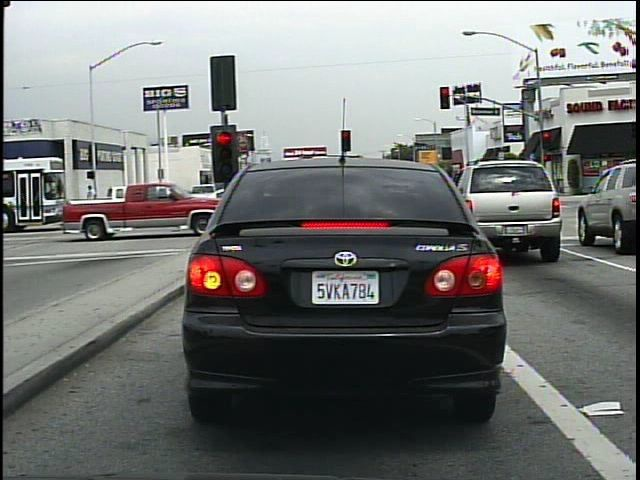person: (83, 183, 104, 218)
